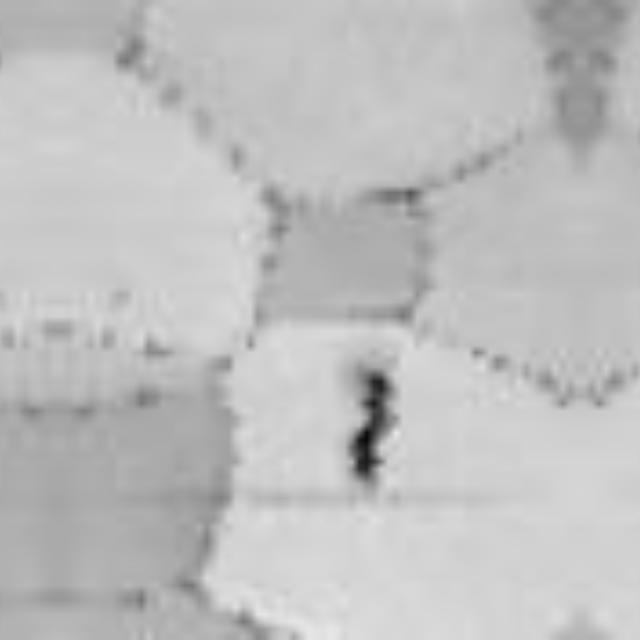good_void: (343, 365, 415, 486)
